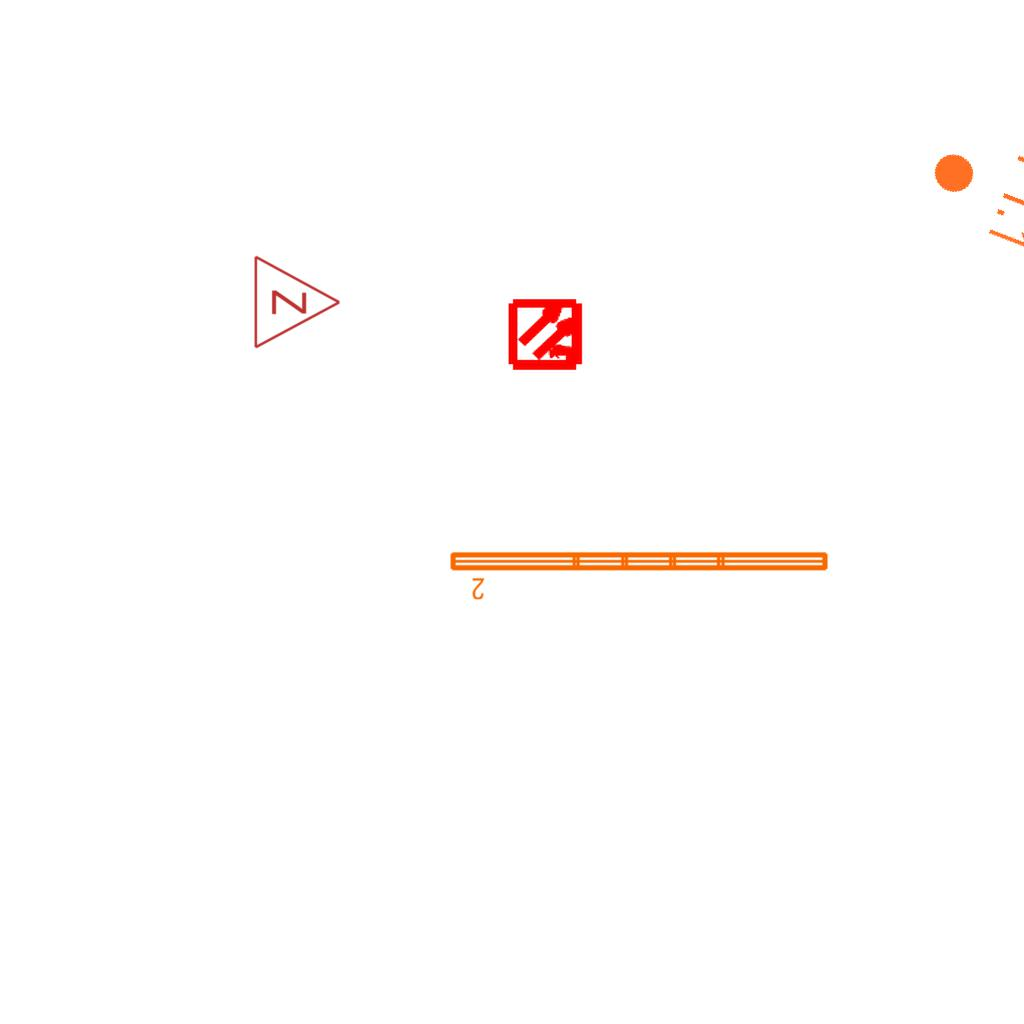Ambulanz_Pendelleuchte_LED: (446, 546, 833, 602)
Downlight_LED_Einbauleuchten_Flur: (915, 124, 1024, 258)
OT_Multisensormelder_(Kombination_RMO_WMD): (491, 278, 604, 391)
Zimmersignalleuchte: (247, 252, 347, 350)
